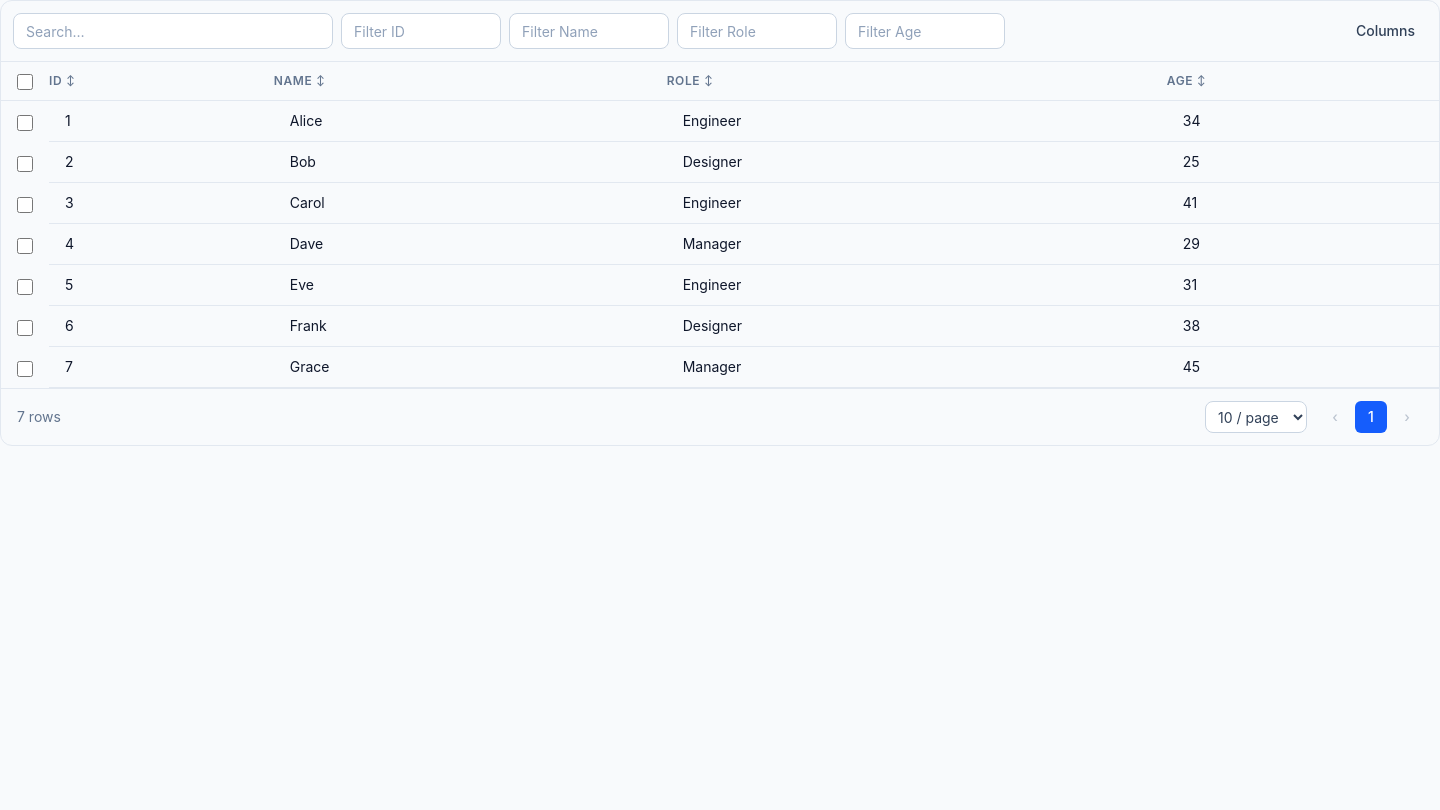
Test: DataTable › column visibility › closes the menu when clicking outside
The width and height of the screenshot is (1440, 810).
Click the button "Columns" at (1385, 31), box x1=1344 y1=13 x2=1427 y2=49
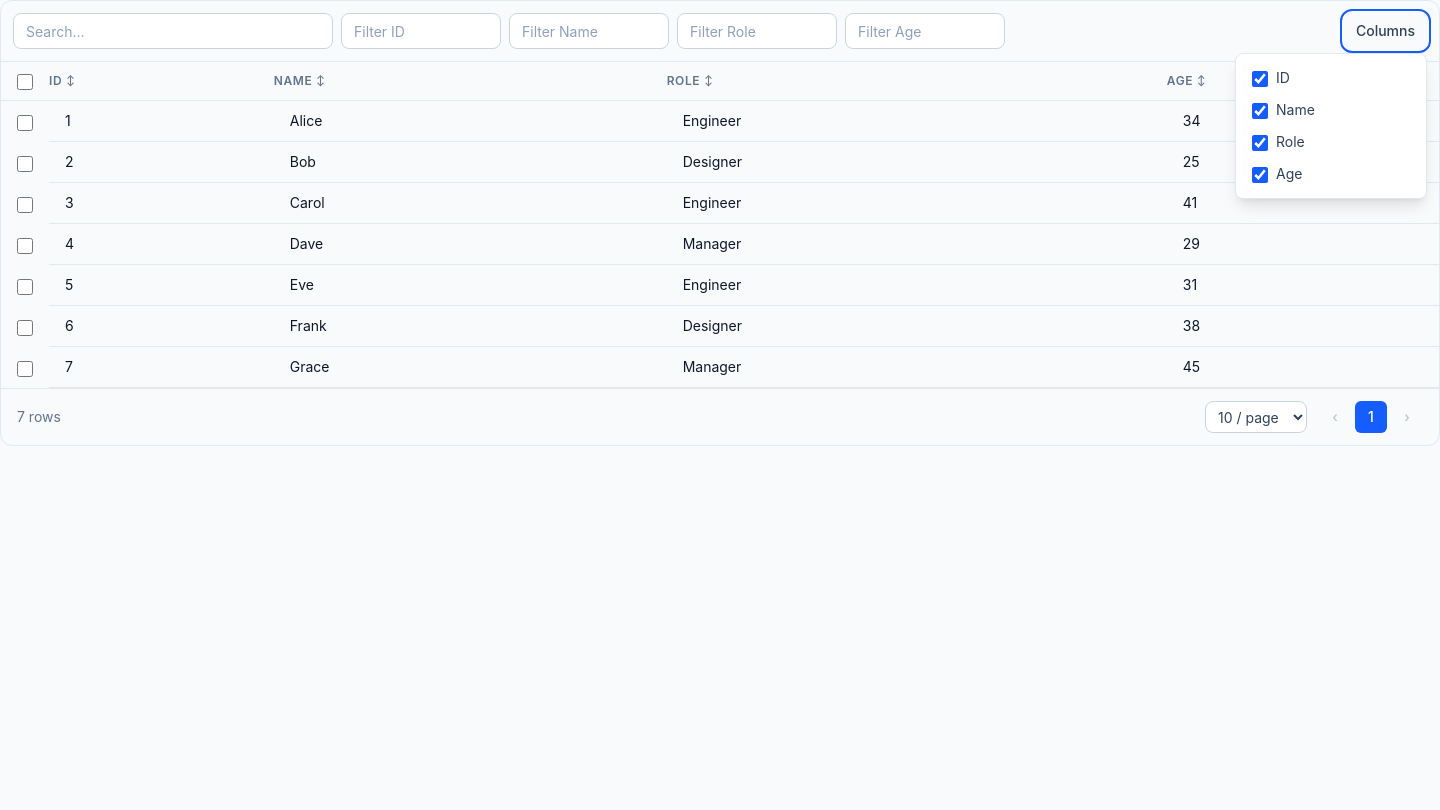
Result: the menu is shown at x1=1235 y1=53 x2=1427 y2=199
Click the element that starts with "Columns" at (720, 761), box x1=0 y1=0 x2=1439 y2=809
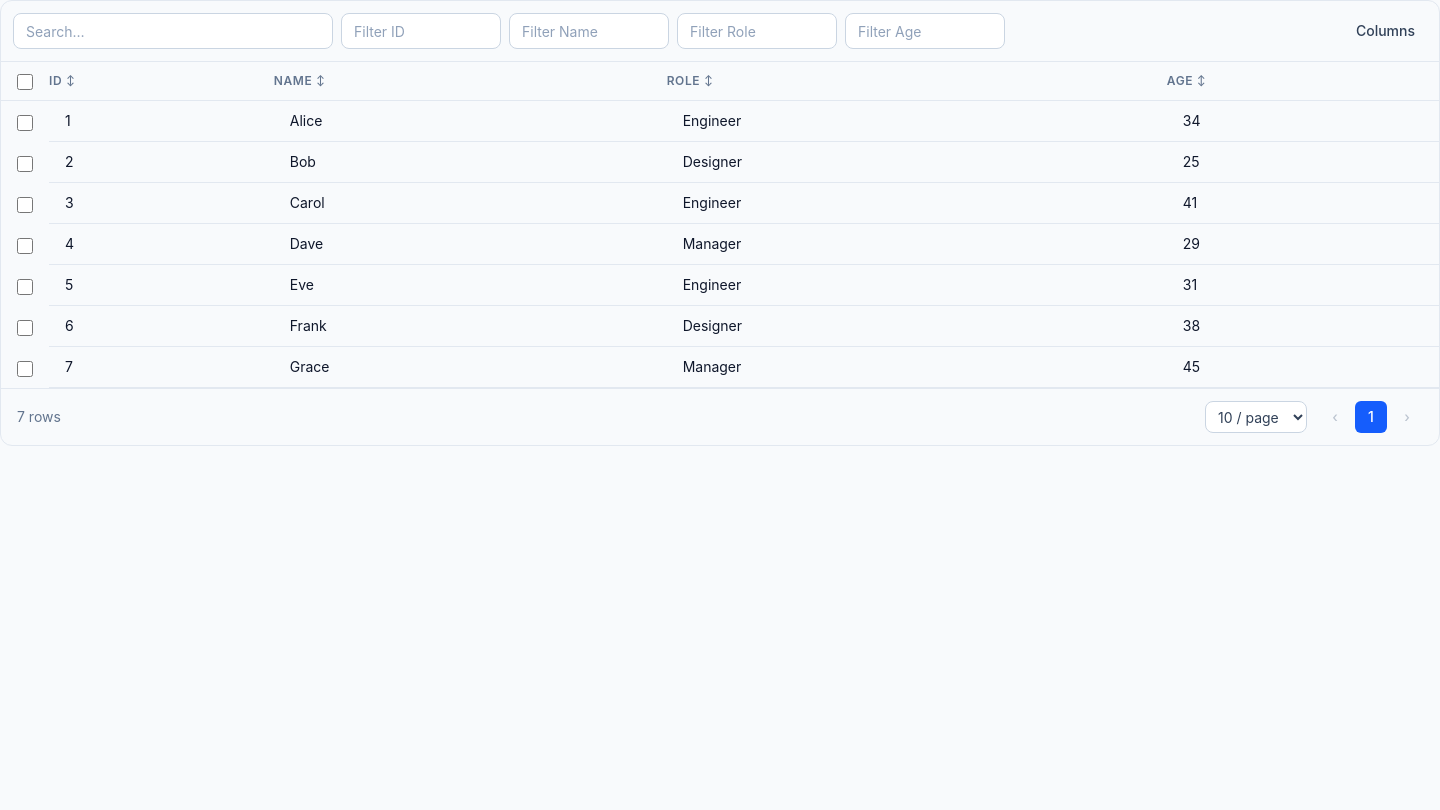
Result: the menu is gone
